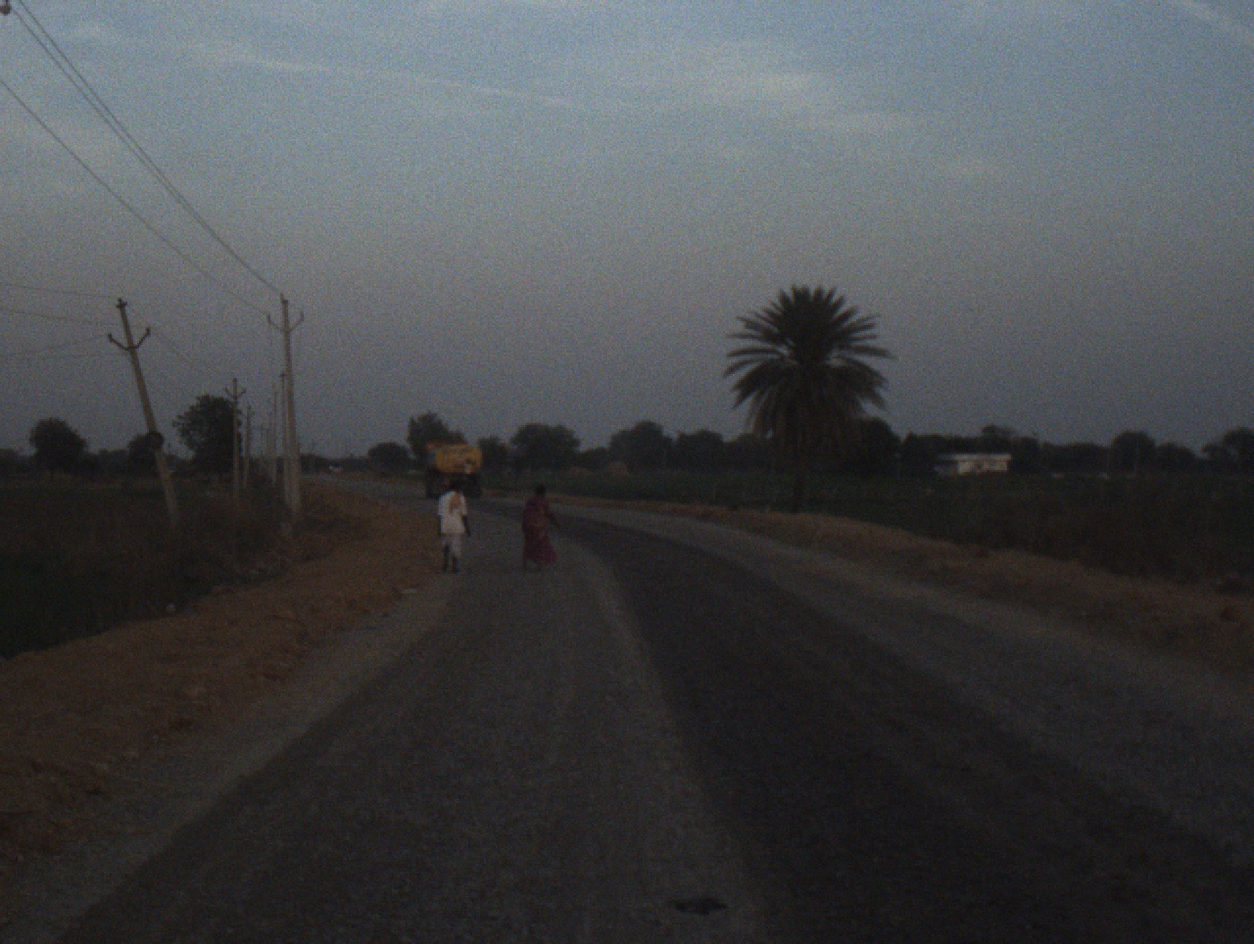person: (515, 472, 559, 572), (435, 477, 470, 576)
truck: (418, 433, 485, 502)
